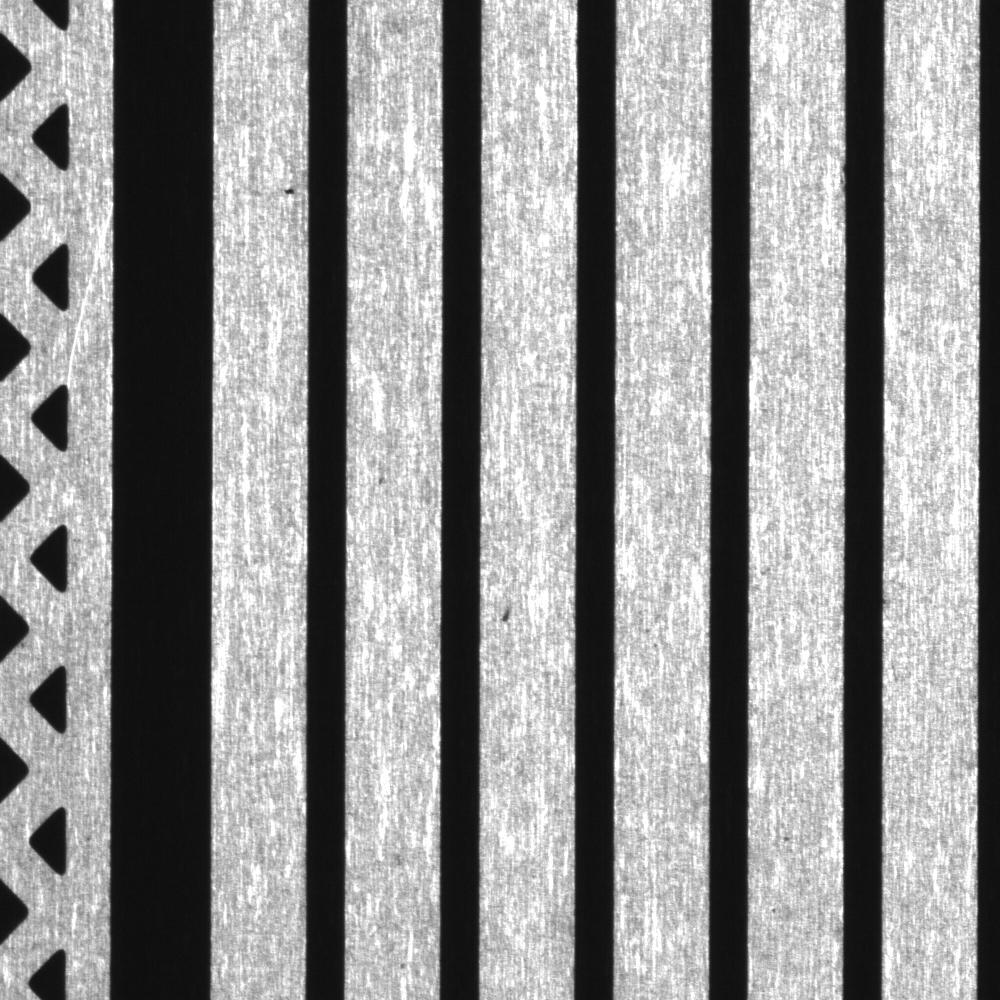Etching: (275, 178, 304, 208), (494, 595, 516, 631)
